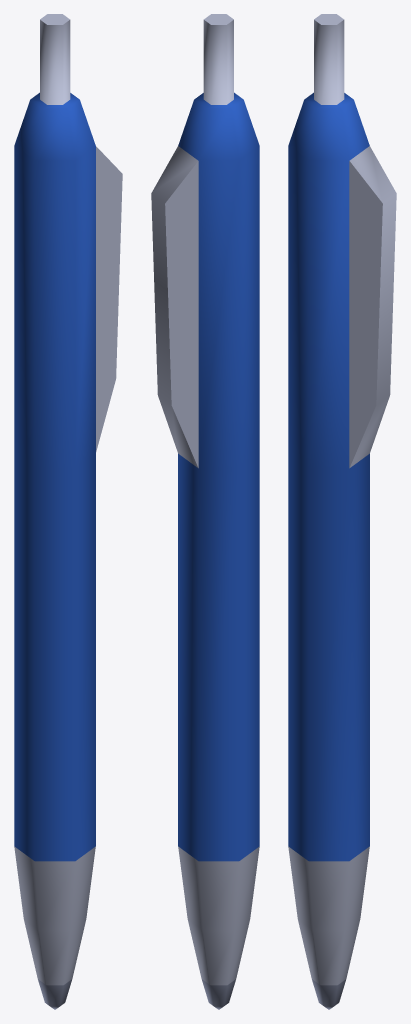
File: Pen2.FBX
3 views of the same model, side by side, from view 1: azimuth 30°, elevation 25°; view 2: azimuth 210°, elevation 25°; view 3: azimuth 330°, elevation 25° (orthographic).
Visible parts, largest first — view 1: Pen_02; view 2: Pen_02; view 3: Pen_02.
Part boxes in pixels (x1,y1,x2,y2): Pen_02: (14,14,122,1009); Pen_02: (151,14,259,1009); Pen_02: (288,14,396,1009).
Size of the model in its own units: 2.14 by 22.12 by 1.65.
